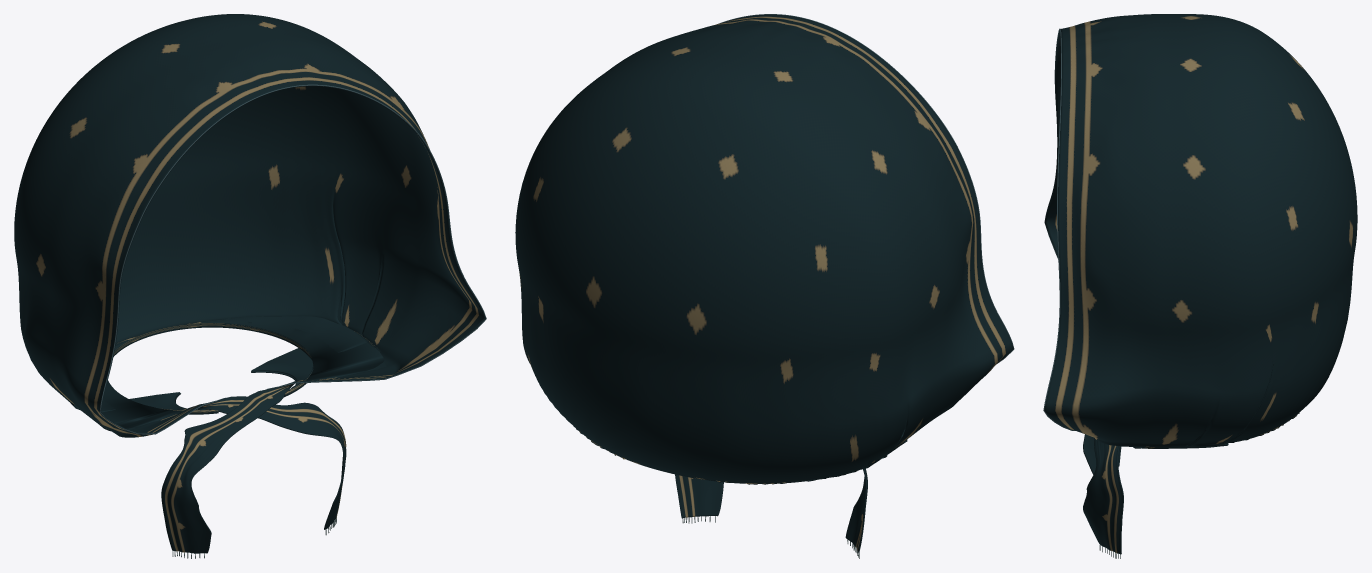
Rendered from Feminine-straight-bandeau-pashmina250-headgear.glb.
3 renders of one model, left to right at view 1: azimuth 30°, elevation 25°; view 2: azimuth 150°, elevation 25°; view 3: azimuth 270°, elevation 25°, orthographic. The views are drawn at different scales.
Visible parts, largest first — view 1: 226 headgear / Headwear / continuous woven pashmina239, 226 headgear / Headwear / face edge239; view 2: 226 headgear / Headwear / continuous woven pashmina239, 226 headgear / Headwear / face edge239; view 3: 226 headgear / Headwear / continuous woven pashmina239, 226 headgear / Headwear / face edge239.
Part boxes in pixels (x1,y1,x2,y2): 226 headgear / Headwear / continuous woven pashmina239: [14, 14, 485, 553]; 226 headgear / Headwear / face edge239: [99, 84, 486, 434]; 226 headgear / Headwear / continuous woven pashmina239: [515, 14, 1013, 552]; 226 headgear / Headwear / face edge239: [718, 14, 1014, 362]; 226 headgear / Headwear / continuous woven pashmina239: [1044, 14, 1357, 554]; 226 headgear / Headwear / face edge239: [1043, 28, 1074, 430].
Size of the model in its own units: 1.16 by 1.39 by 0.8139.
Materials: 3 (1 with a texture image).
